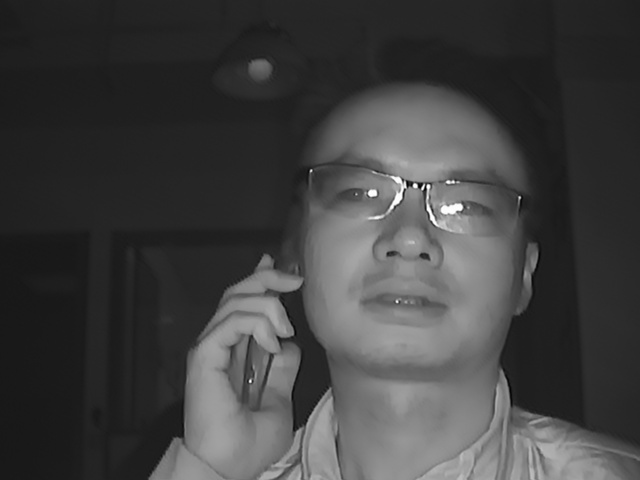hand: (181, 263, 303, 461)
